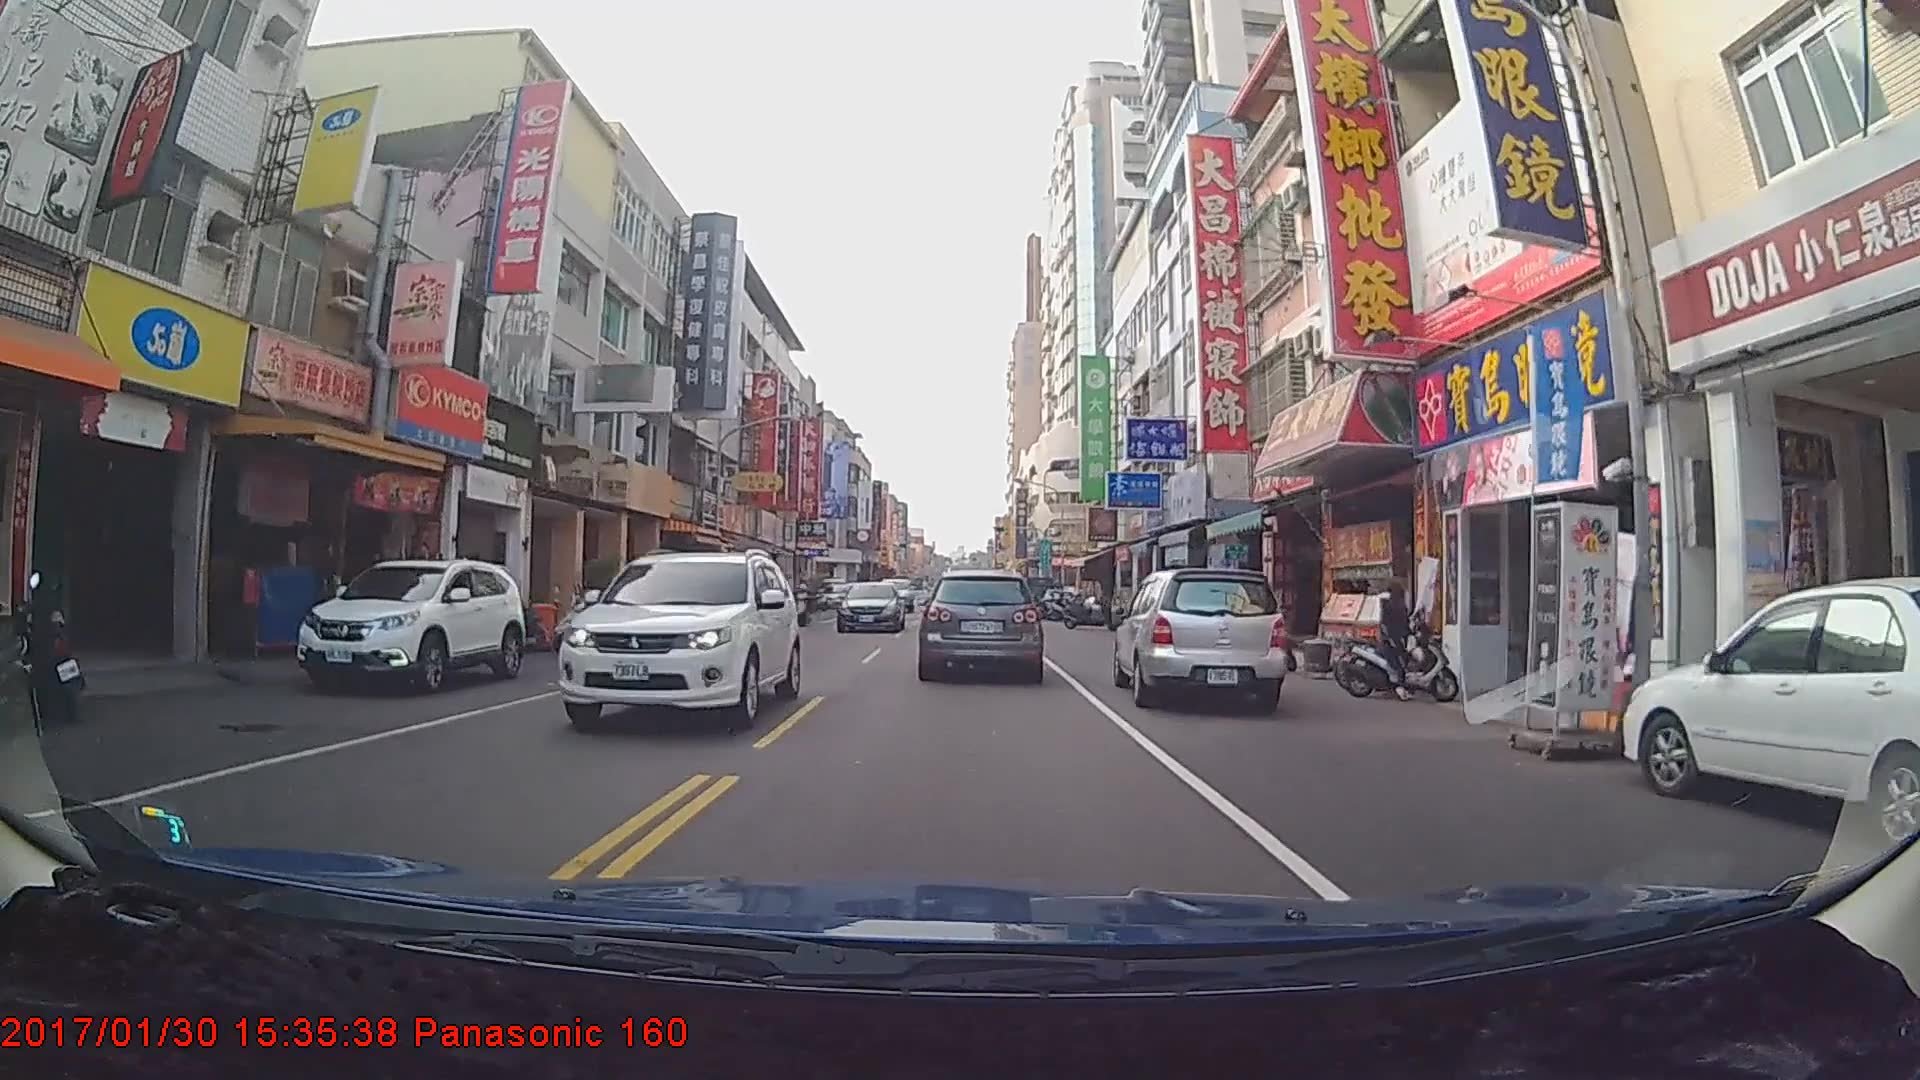rider: (1340, 575, 1468, 710)
vehicle: (1624, 575, 1920, 856), (558, 551, 801, 735), (292, 555, 525, 697), (1112, 565, 1291, 715), (921, 567, 1040, 680), (834, 579, 907, 634)
